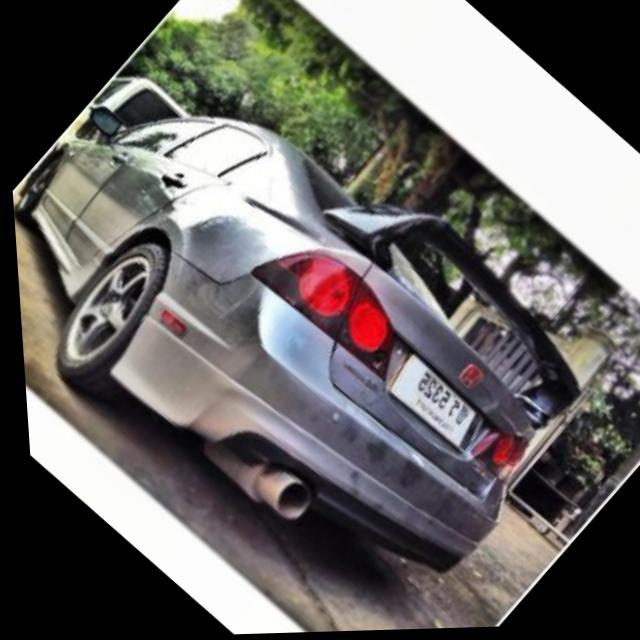license_plate: (374, 351, 492, 464)
